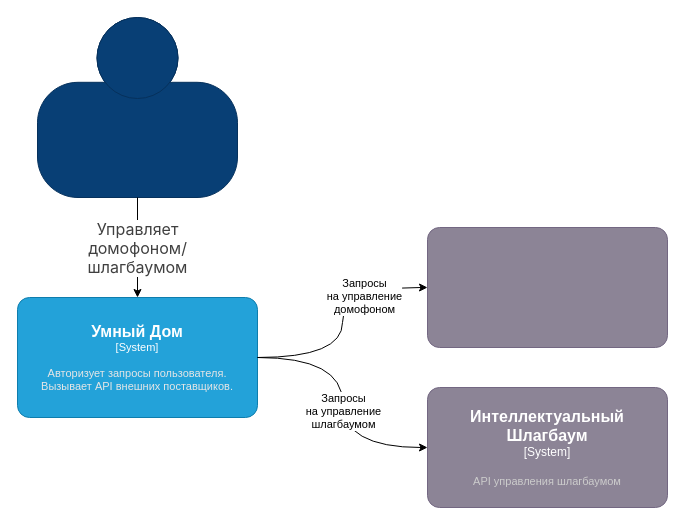
Some shapes in this 685 by 525 pixel diagram are drawn without their labels. The centre of each missing label's shape, as x and y in pixels:
Интеллектуальный Домофон [System] API управления домофоном: the point at 547,287
Собственник [Person] Использует приложение iOS / Android: the point at 137,107
